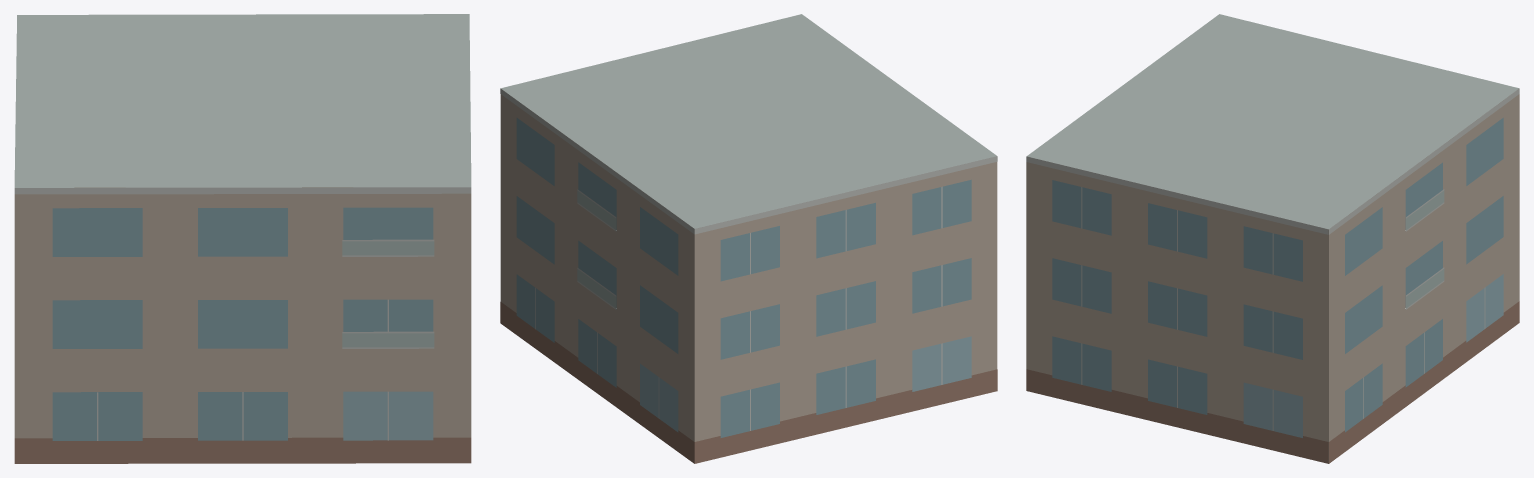
File: survey-upis-32490283.glb
3 views of the same model, side by side, from view 1: azimuth 30°, elevation 25°; view 2: azimuth 150°, elevation 25°; view 3: azimuth 270°, elevation 25° (orthographic). The views are drawn at different scales.
Parts seen in each view (by area): view 1: survey-upis-32490283.tmp; view 2: survey-upis-32490283.tmp; view 3: survey-upis-32490283.tmp.
Part boxes in pixels (x1,y1,x2,y2): survey-upis-32490283.tmp: (14, 14, 471, 463); survey-upis-32490283.tmp: (500, 14, 997, 463); survey-upis-32490283.tmp: (1026, 14, 1519, 463).
Size of the model in its own units: 20.19 by 10.25 by 19.54.
